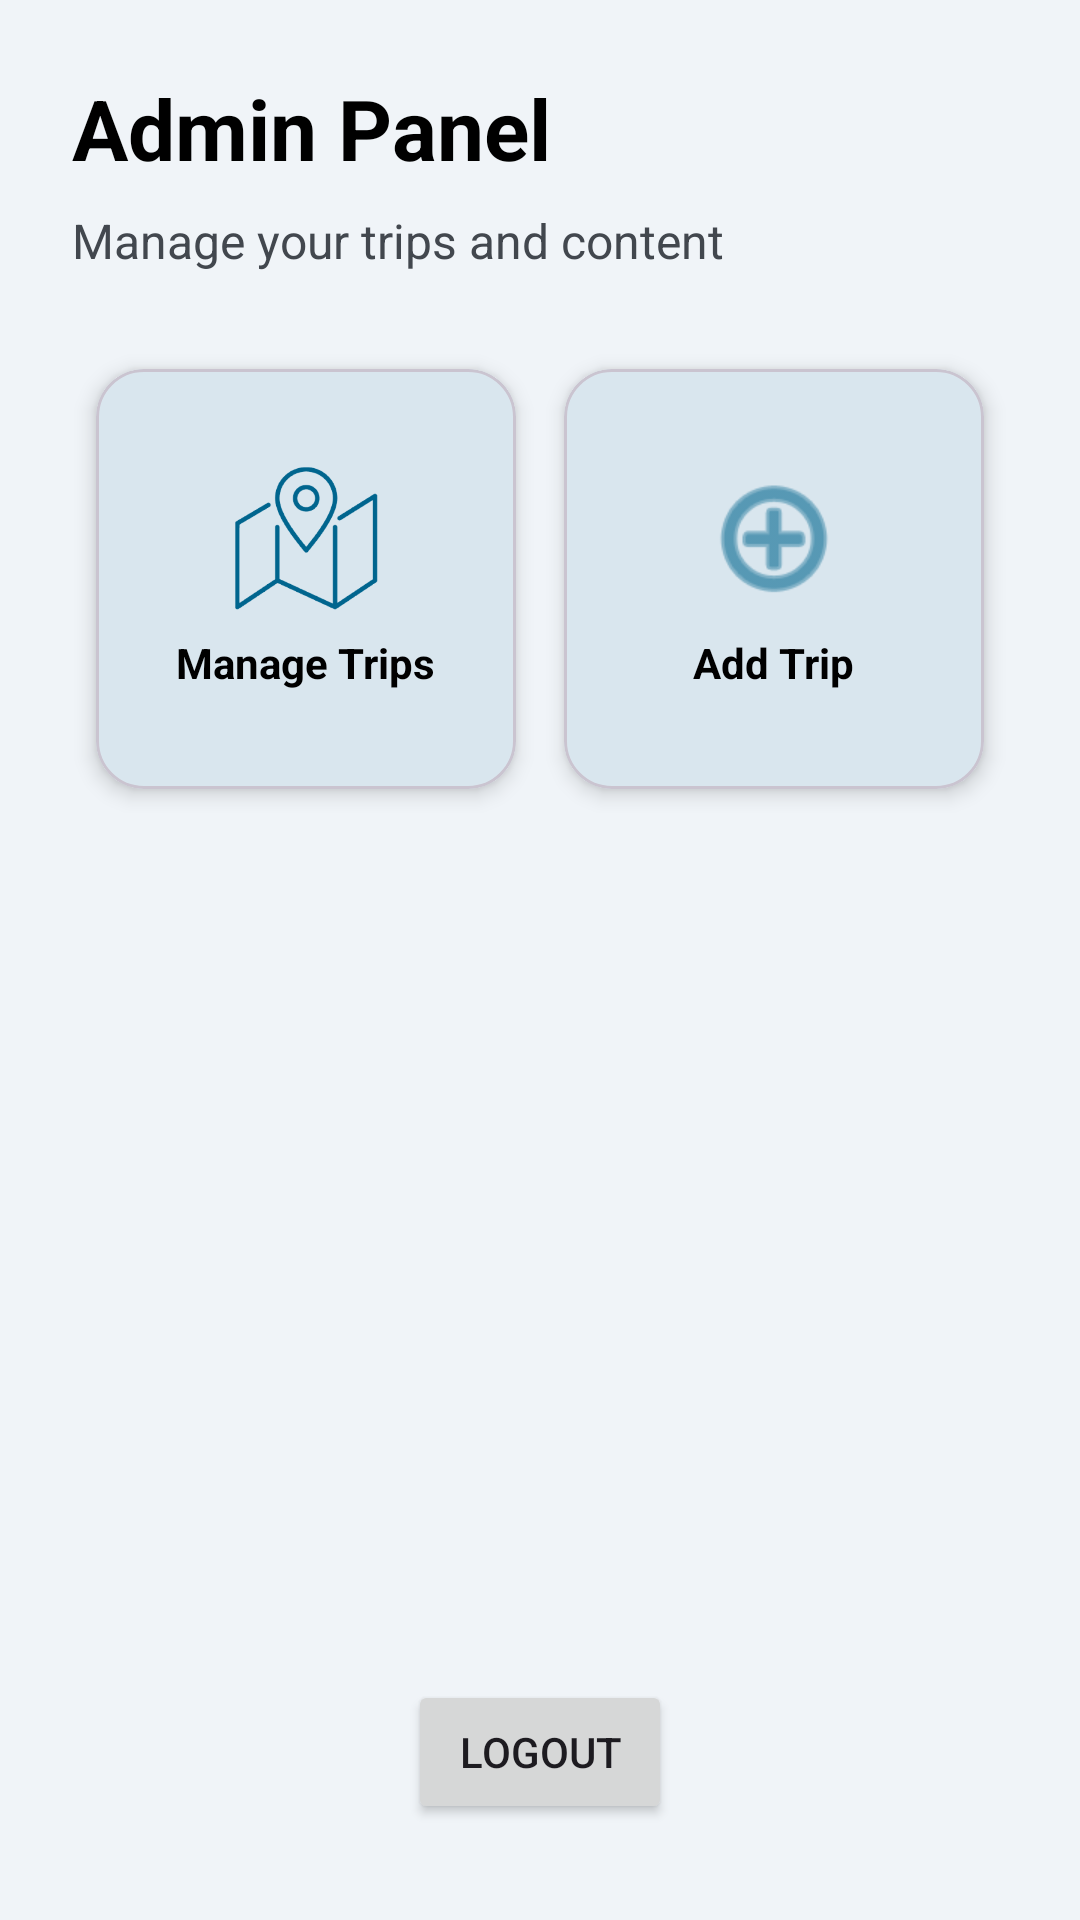

Named icons in this screenshot (1080×1920) and their bounding boxes, box(x1, y1, x2, y2):
map: box(235, 467, 378, 610)
